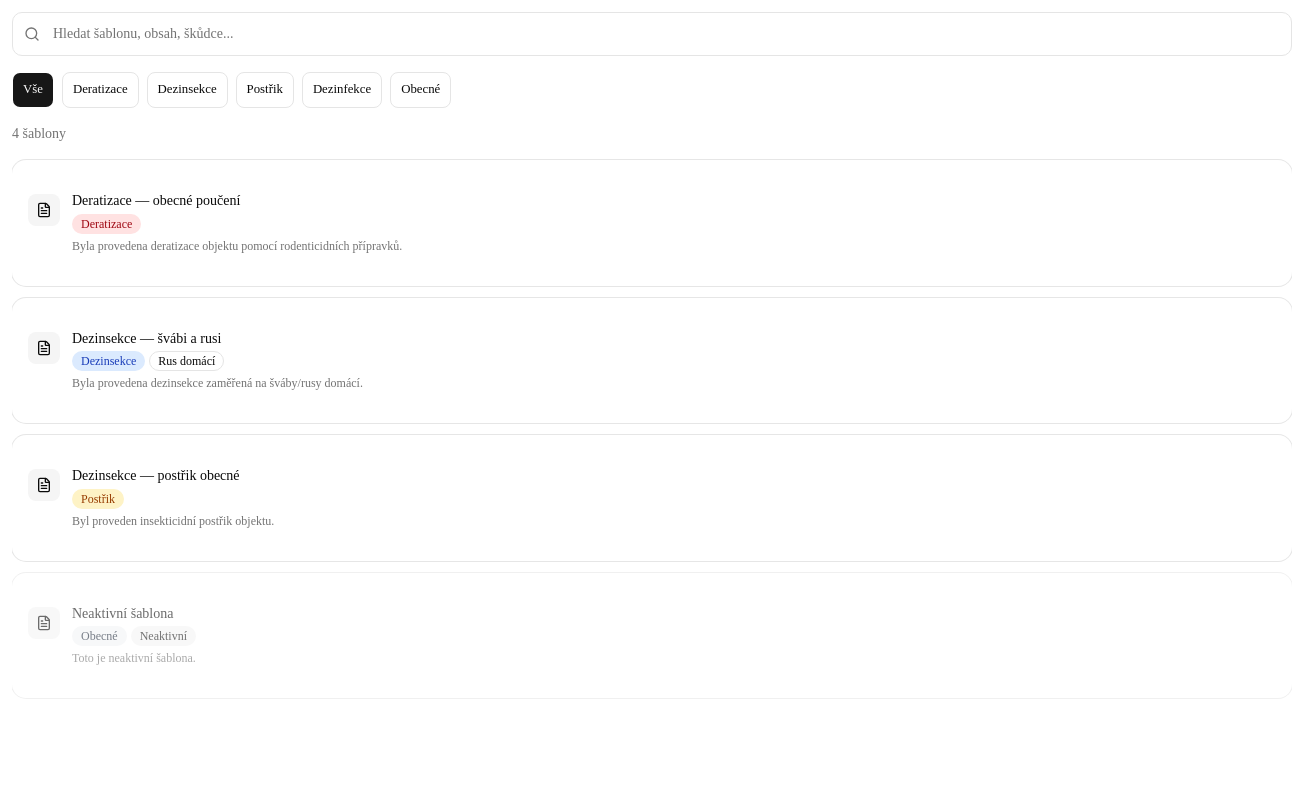
it: SablonyPouceniList › filters by typ_zasahu deratizace
The width and height of the screenshot is (1304, 812).
Click the button "Deratizace": x=100, y=90 [62, 72, 139, 108]
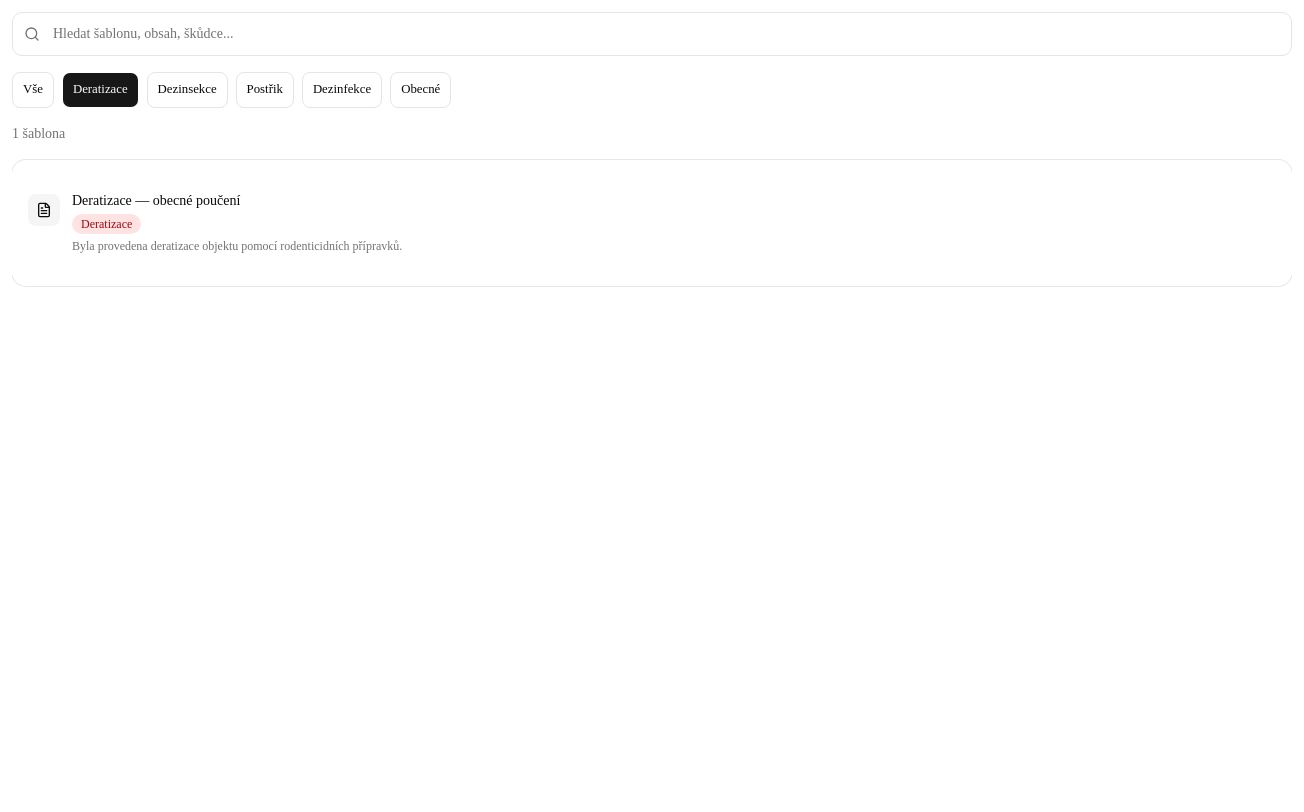
expect the text "Deratizace — obecné poučení" is shown: met, box [72, 193, 240, 208]
expect the text "Dezinsekce — švábi a rusi" is gone: met
